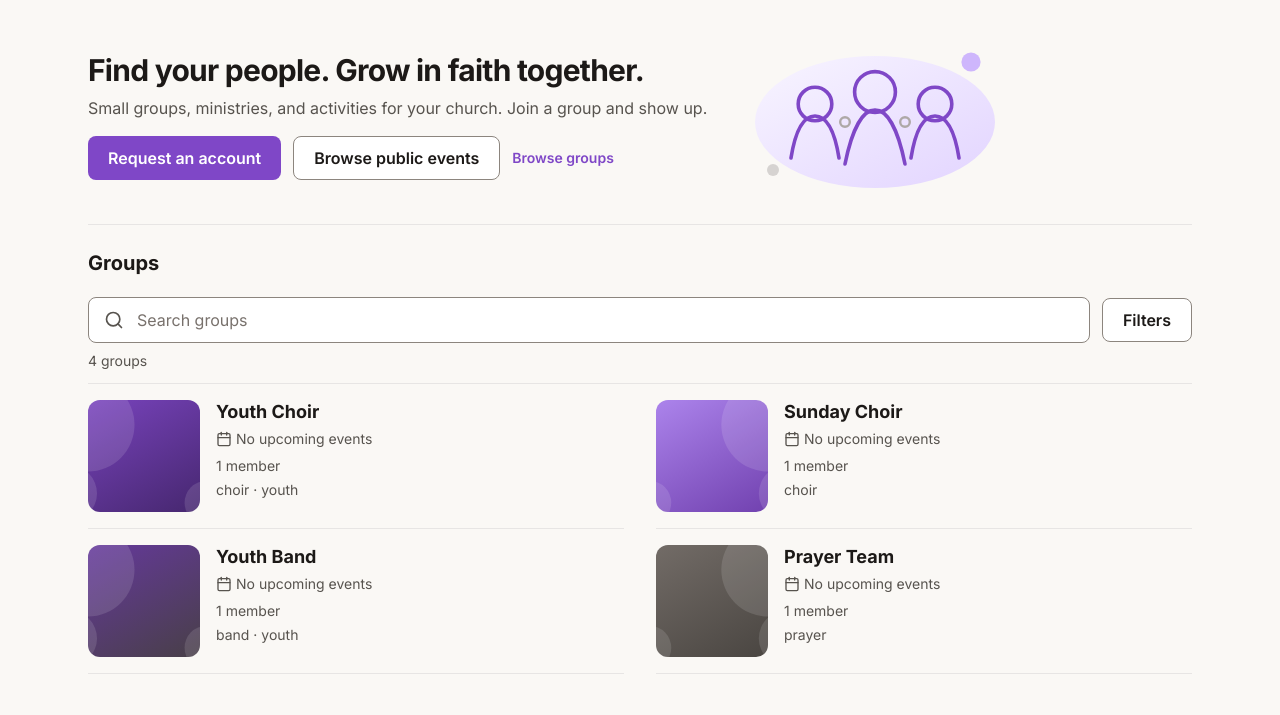
Test case: Home tag filters › shows no summary or markers before a tag is chosen
Click the button "Filters".
click(1147, 320)  # box [1102,298,1192,342]
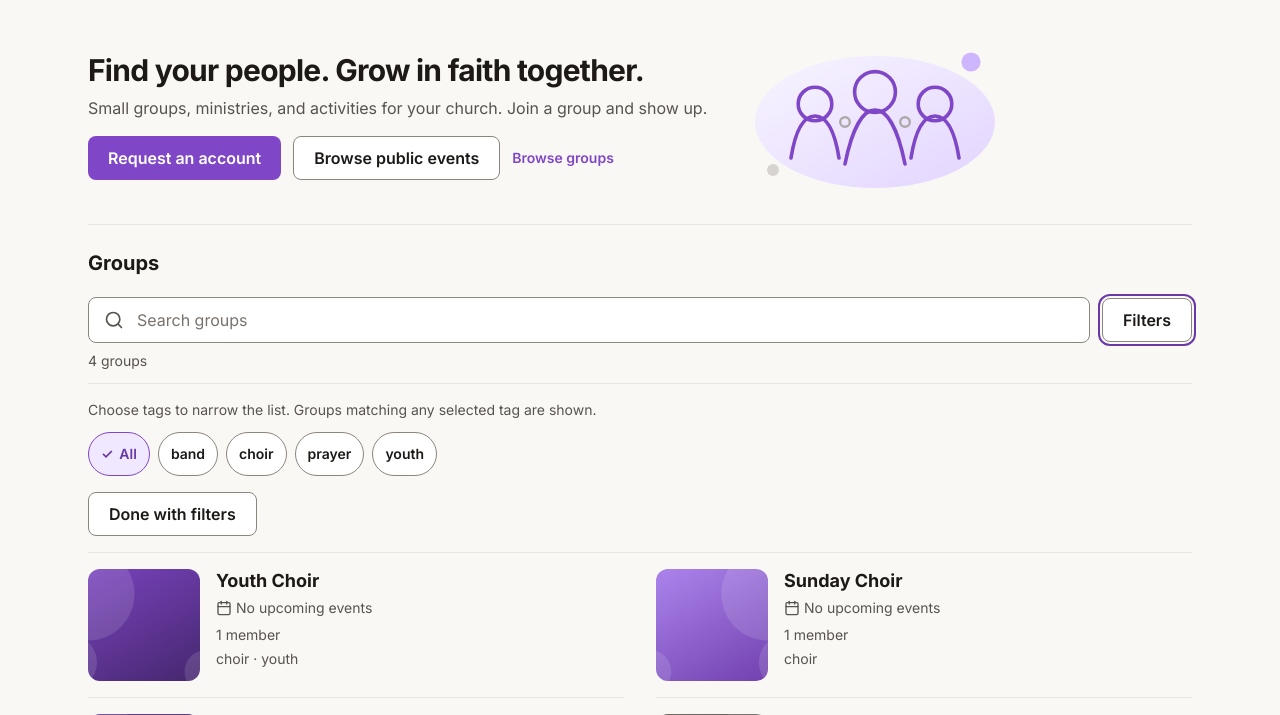
Check: the button "All" is shown, box [88,432,150,476]
